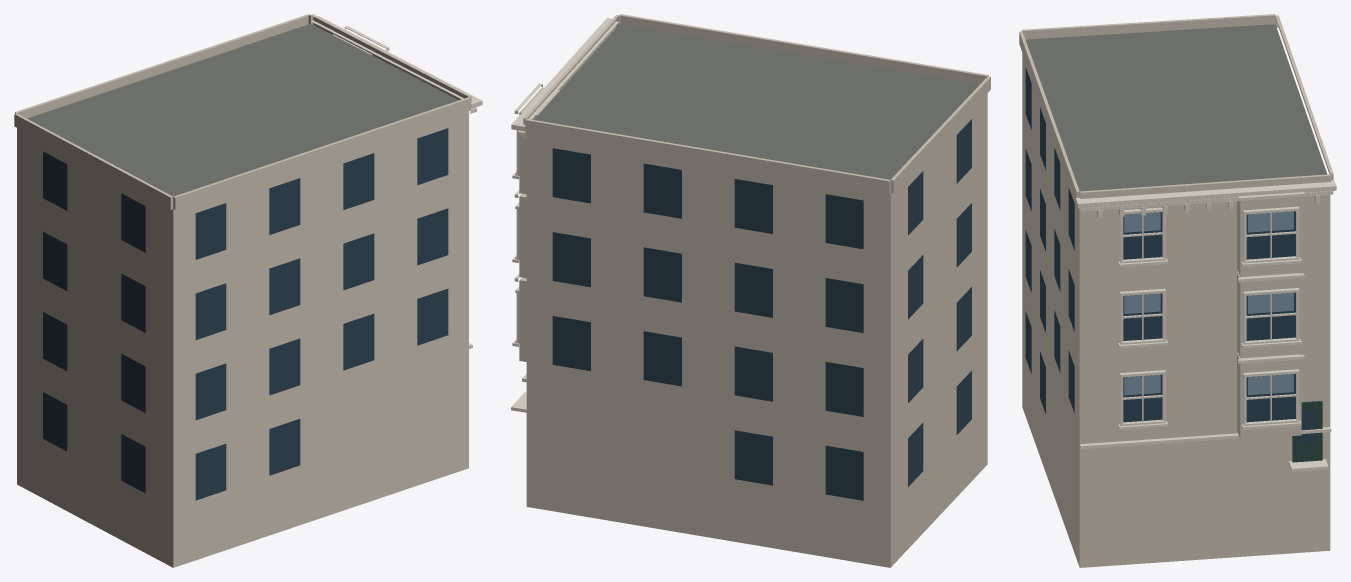
3 views of the same model, side by side, from view 1: azimuth 30°, elevation 25°; view 2: azimuth 150°, elevation 25°; view 3: azimuth 270°, elevation 25° (orthographic). The views are drawn at different scales.
Parts seen in each view (by area): view 1: Footprint 0 / surface 2, Footprint 0 / surface 1, Inset glazing, Facade bay volumes, Cornices and window frames; view 2: Footprint 0 / surface 2, Footprint 0 / surface 1, Inset glazing, Facade bay volumes, Cornices and window frames; view 3: Footprint 0 / surface 2, Footprint 0 / surface 1, Cornices and window frames, Facade bay volumes, Inset glazing, Sky reflection panels, Storefronts and doors.
Part boxes in pixels (box(x1,y1,x2,y2)): Footprint 0 / surface 2: box(17, 111, 468, 567); Footprint 0 / surface 1: box(27, 23, 458, 196); Inset glazing: box(43, 128, 448, 500); Facade bay volumes: box(14, 14, 471, 209); Cornices and window frames: box(311, 16, 482, 348); Footprint 0 / surface 2: box(526, 93, 987, 567); Footprint 0 / surface 1: box(534, 24, 979, 179); Inset glazing: box(552, 119, 971, 500); Facade bay volumes: box(519, 14, 990, 361); Cornices and window frames: box(511, 18, 618, 412); Footprint 0 / surface 2: box(1022, 53, 1330, 567); Footprint 0 / surface 1: box(1026, 24, 1326, 191); Cornices and window frames: box(1075, 180, 1336, 471); Facade bay volumes: box(1019, 14, 1333, 439); Inset glazing: box(1025, 67, 1316, 443); Sky reflection panels: box(1124, 211, 1293, 395); Storefronts and doors: box(1292, 401, 1322, 462).
Bounding box in the file's own units: 15.77 × 15.07 × 11.52.
